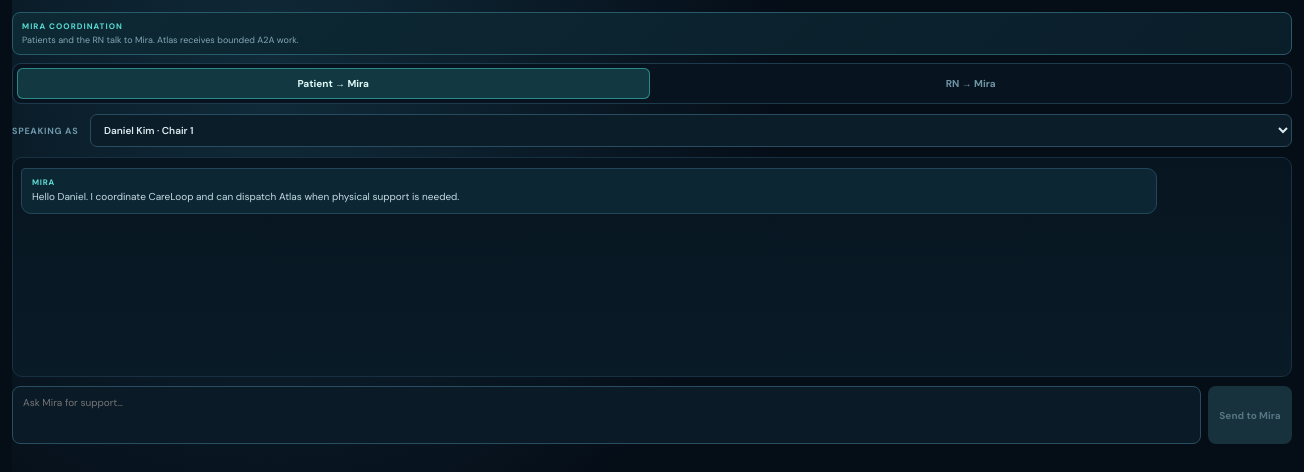
Test: AgentChatPanel › routes a patient conversation through Mira and forwards the verified Atlas mission
The width and height of the screenshot is (1304, 472).
Type "Please bring me coffee" into the text box named "Message Mira" at point(606, 415), box [12, 386, 1201, 444]
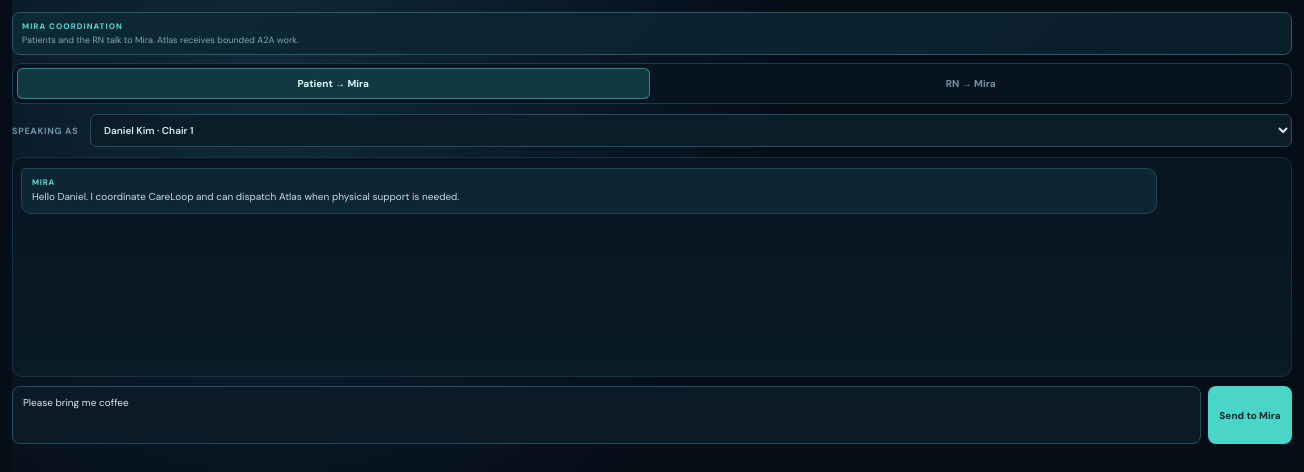
Click the button "Send to Mira" at point(1250, 415), box [1208, 386, 1292, 444]
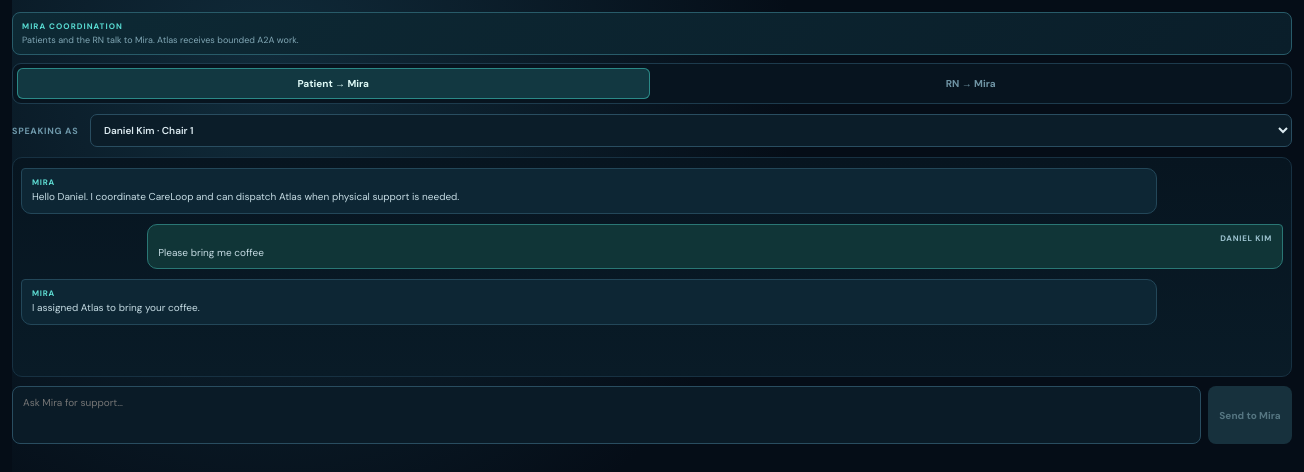
Expected: the text "I assigned Atlas to bring your coffee." is shown, [32, 301, 200, 314]
